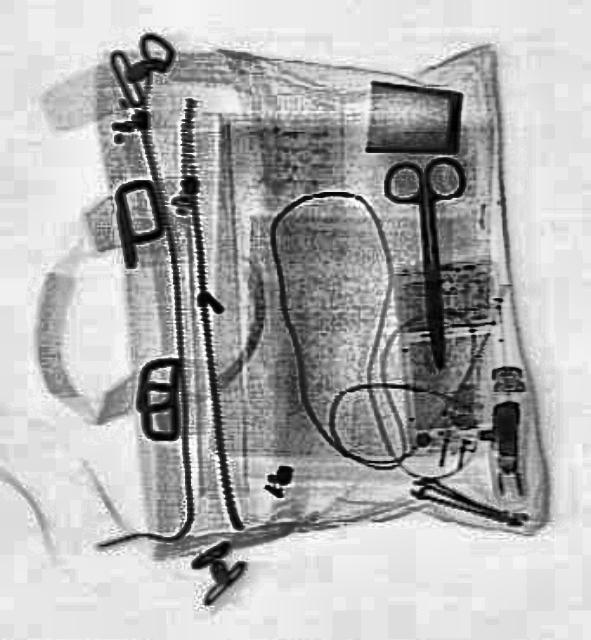Scissors: (380, 154, 478, 370)
